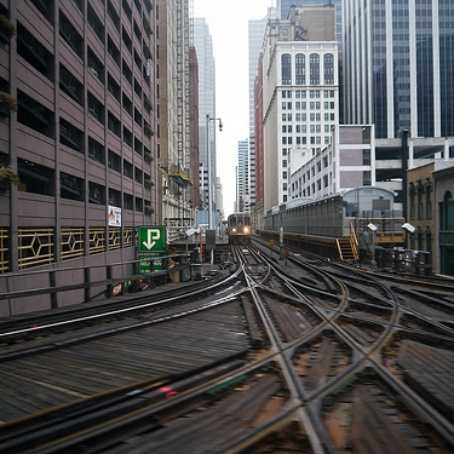building: (1, 1, 169, 277), (345, 1, 454, 214), (252, 1, 334, 227), (308, 145, 454, 263), (158, 1, 223, 221)
train: (218, 208, 256, 248)
train track: (36, 254, 442, 454)
